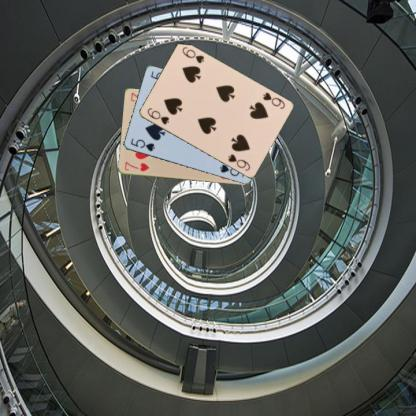5s: (128, 136, 155, 152)
6s: (144, 105, 170, 126), (260, 90, 286, 110)
7h: (122, 159, 150, 173)
